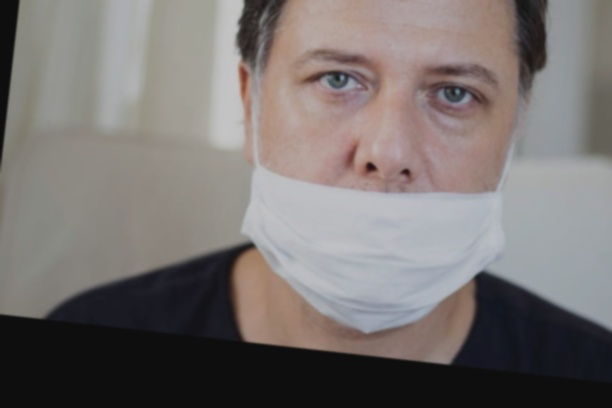mask_weared_incorrect: (250, 1, 520, 320)
